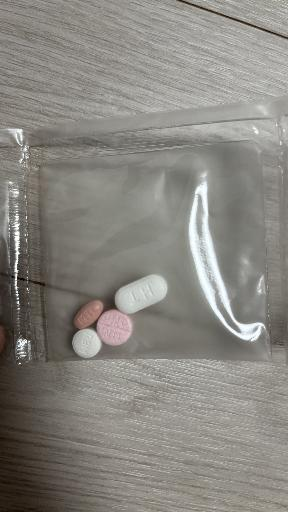Isofen: (115, 275, 168, 314)
Motilitone: (74, 300, 103, 329)
Neomedicough: (96, 309, 132, 346)
Rebamipid: (72, 327, 102, 358)
vinyl: (0, 96, 288, 364)
